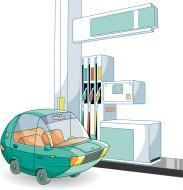car: (1, 108, 109, 183)
